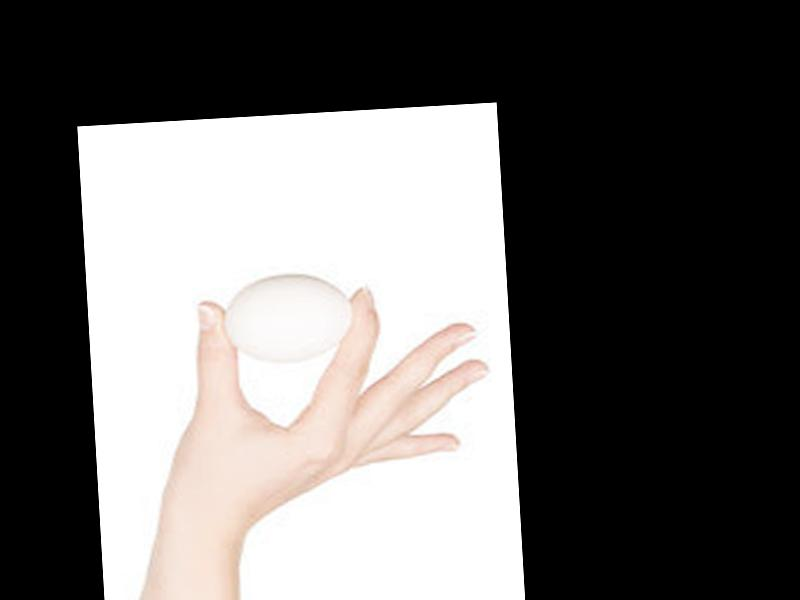Eggs: (222, 268, 355, 366)
